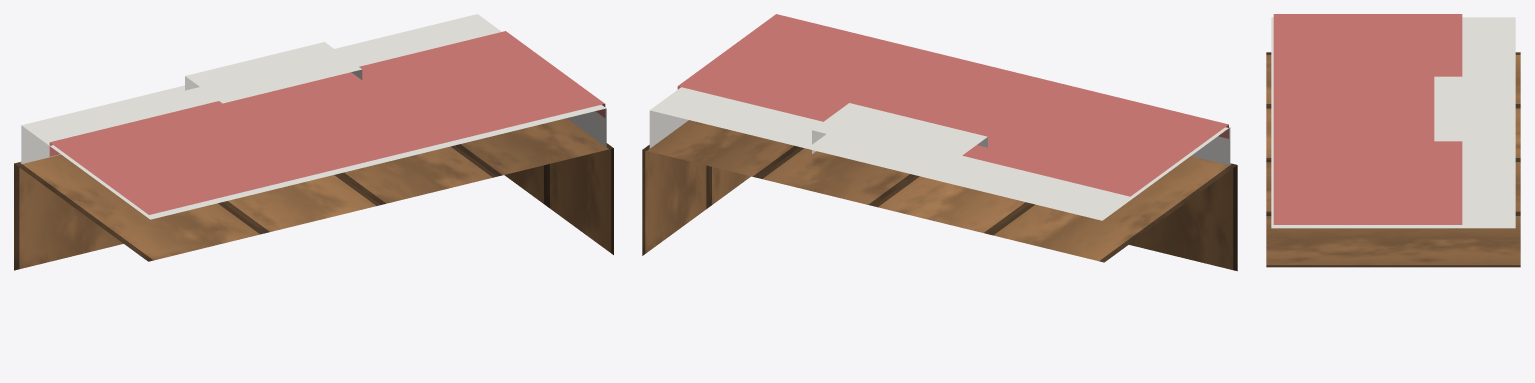
File: prop_bed.glb
The picture shows the model from 3 angles, left to right: view 1: azimuth 30°, elevation 25°; view 2: azimuth 150°, elevation 25°; view 3: azimuth 270°, elevation 25°; orthographic projection. The views are drawn at different scales.
Parts seen in each view (by area): view 1: prop; view 2: prop; view 3: prop.
Part boxes in pixels (bbox=[...]): prop: bbox=[14, 14, 613, 270]; prop: bbox=[642, 14, 1237, 271]; prop: bbox=[1266, 14, 1520, 267].
Bounding box in the file's own units: 2 × 0.66 × 1.
4 materials, 1 textured.
